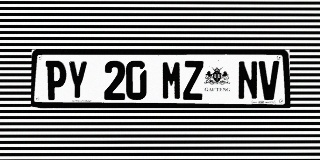0: (126, 61, 146, 100)
2: (104, 61, 125, 100)
M: (162, 61, 182, 100)
N: (237, 61, 258, 100)
P: (45, 61, 66, 100)
V: (259, 61, 280, 100)
Y: (67, 61, 88, 100)
Z: (183, 61, 204, 100)
